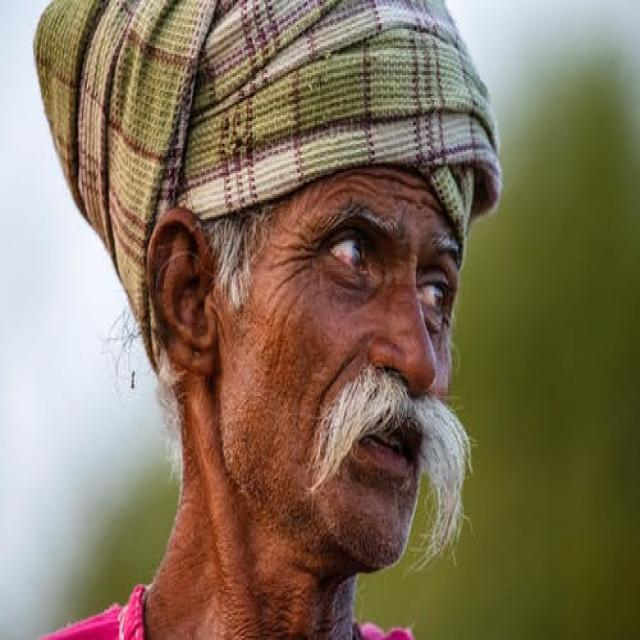Wrinkles: (335, 171, 434, 193), (269, 265, 309, 300), (326, 188, 380, 203), (282, 294, 300, 338), (268, 344, 280, 403), (270, 255, 312, 267), (349, 180, 376, 191), (273, 244, 315, 250)
